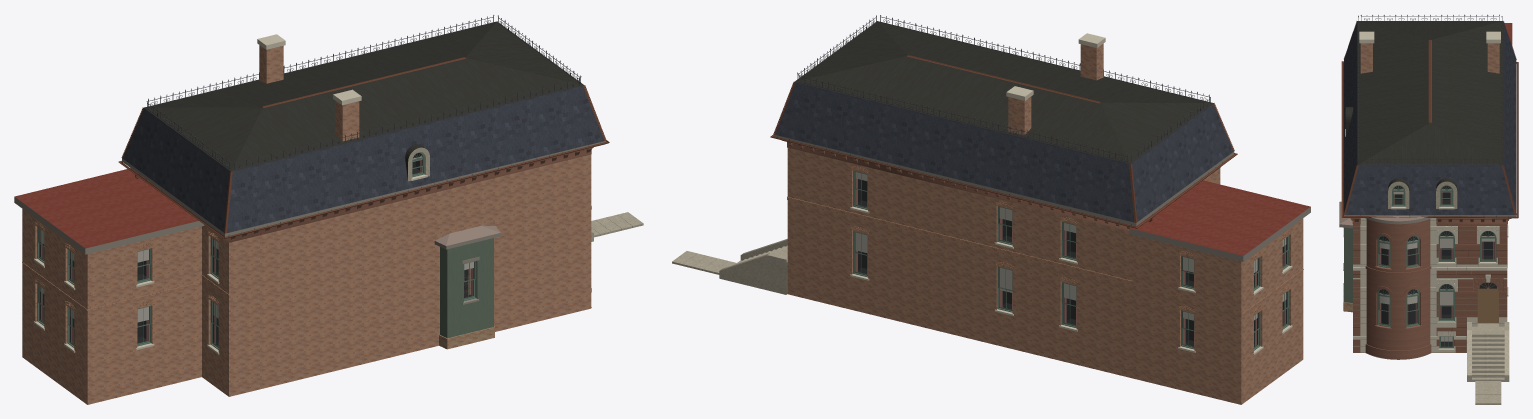
File: house_2123_prairie__as_mapped_1904.glb
3 renders of one model, left to right at view 1: azimuth 30°, elevation 25°; view 2: azimuth 150°, elevation 25°; view 3: azimuth 270°, elevation 25°, orthographic. The views are drawn at different scales.
Parts seen in each view (by area): view 1: house_2123_prairie__as_mapped_1904; view 2: house_2123_prairie__as_mapped_1904; view 3: house_2123_prairie__as_mapped_1904.
Part boxes in pixels (x1=…): house_2123_prairie__as_mapped_1904: x1=14, y1=15, x2=643, y2=404; house_2123_prairie__as_mapped_1904: x1=672, y1=15, x2=1310, y2=404; house_2123_prairie__as_mapped_1904: x1=1339, y1=14, x2=1518, y2=404.
Bounding box in the file's own units: 35.98 × 15.04 × 11.02.
29 materials, 18 textured.
